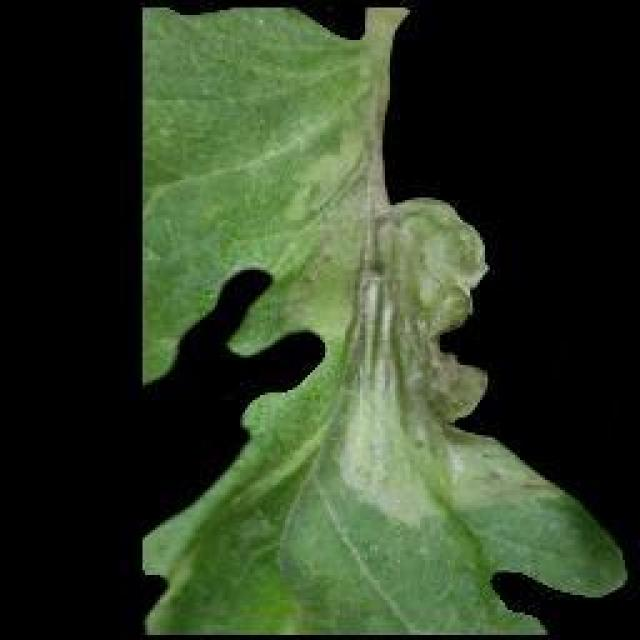Tomato late blight leaf: (145, 8, 627, 638)
